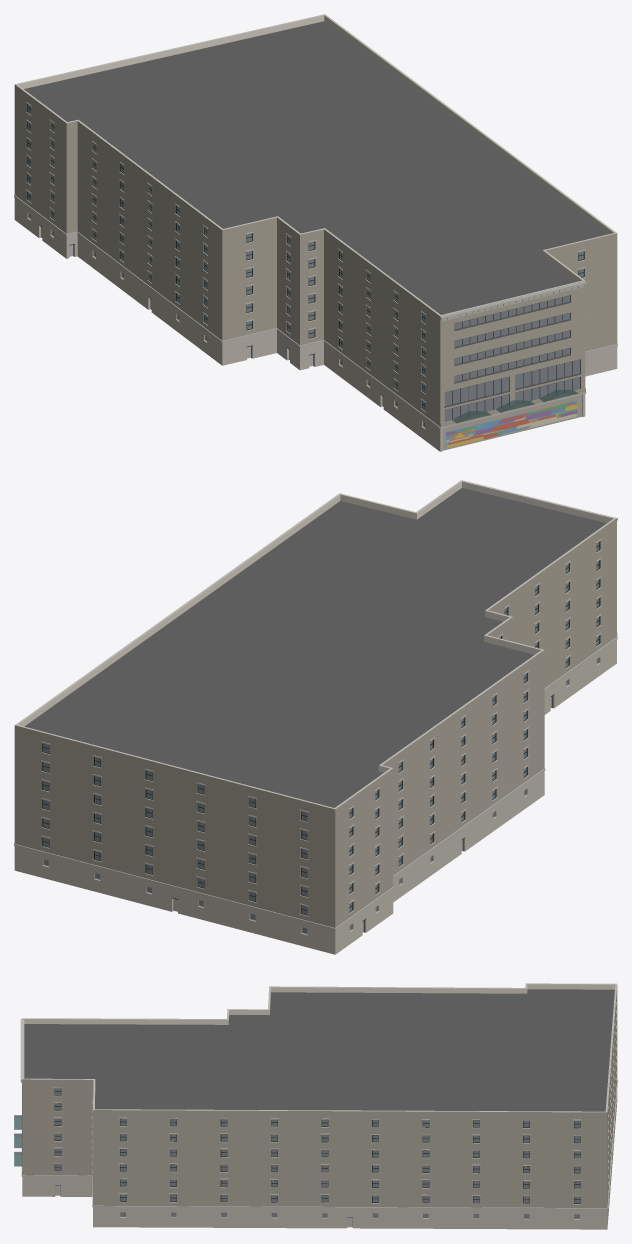
Rendered from exterior.glb.
3 renders of one model, top to bottom at view 1: azimuth 30°, elevation 25°; view 2: azimuth 150°, elevation 25°; view 3: azimuth 270°, elevation 25°, orthographic. The views are drawn at different scales.
Parts seen in each view (by area): view 1: roof, shell, glazing, shadow-proxy, trim, frames, mural, storefront, hand-ornament, front-dressing; view 2: roof, shell, trim, glazing, frames, shadow-proxy; view 3: shell, roof, trim, glazing, shadow-proxy, frames, hand-ornament.
Boxes of the visible parts, x1=… form: roof: x1=24, y1=21, x2=607, y2=314; shell: x1=14, y1=14, x2=617, y2=451; glazing: x1=28, y1=105, x2=583, y2=427; shadow-proxy: x1=29, y1=106, x2=583, y2=426; trim: x1=14, y1=102, x2=617, y2=429; frames: x1=27, y1=104, x2=584, y2=419; mural: x1=446, y1=400, x2=577, y2=448; storefront: x1=39, y1=225, x2=581, y2=450; hand-ornament: x1=452, y1=390, x2=578, y2=423; front-dressing: x1=440, y1=388, x2=585, y2=428; roof: x1=24, y1=488, x2=606, y2=807; shell: x1=14, y1=480, x2=616, y2=954; trim: x1=14, y1=480, x2=617, y2=935; glazing: x1=43, y1=542, x2=599, y2=934; frames: x1=42, y1=541, x2=600, y2=915; shadow-proxy: x1=44, y1=543, x2=598, y2=933; shell: x1=22, y1=983, x2=617, y2=1229; roof: x1=24, y1=989, x2=614, y2=1111; trim: x1=20, y1=1002, x2=617, y2=1219; glazing: x1=55, y1=1088, x2=580, y2=1218; shadow-proxy: x1=55, y1=1088, x2=579, y2=1227; frames: x1=54, y1=1088, x2=580, y2=1203; hand-ornament: x1=14, y1=1115, x2=22, y2=1166.
Bounding box in the file's own units: 55.06 × 23.22 × 108.
